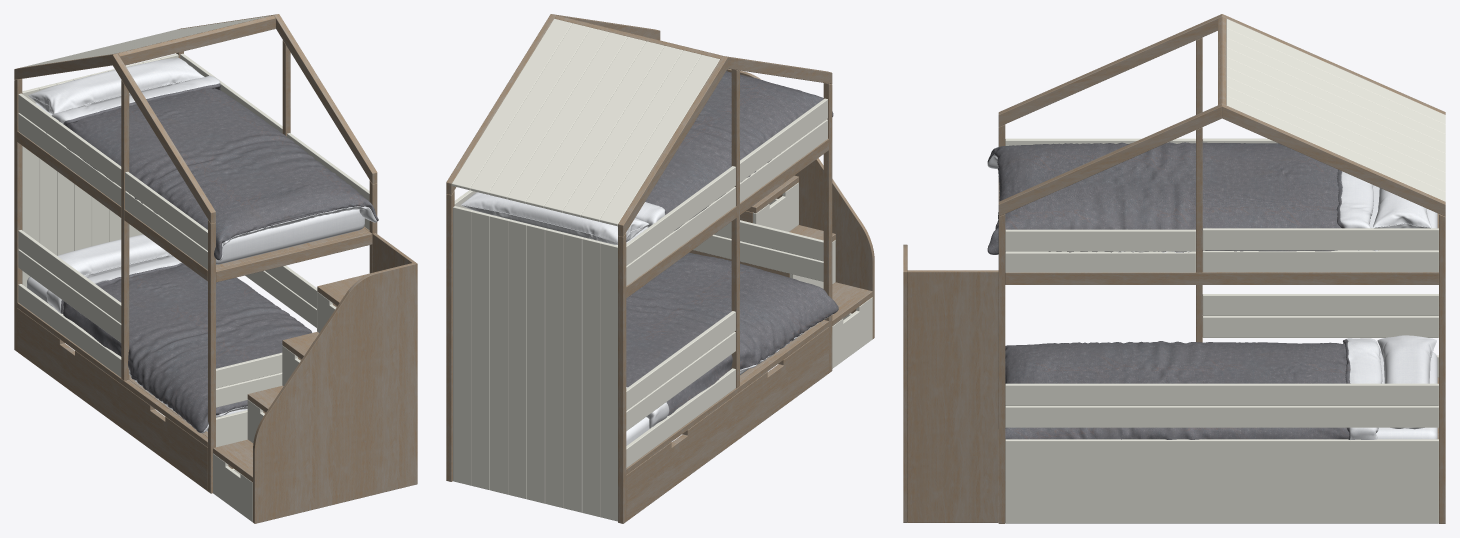
File: bed-1.glb
The picture shows the model from 3 angles, left to right: view 1: azimuth 30°, elevation 25°; view 2: azimuth 150°, elevation 25°; view 3: azimuth 270°, elevation 25°; orthographic projection. The views are drawn at different scales.
Visible parts, largest first — view 1: lat es 1.006_1, matalas.005_73, matalas.006_74, tapa llit inferior_47, fustes lateral_42, estucutra sostre_61, suport llitera_39, matalas.008_76, matalas.001_72, matalas.007_75, suport llitera 1_50, Unio sostre_62 (+29 smaller); view 2: fustes lateral_42, sostre_54, matalas.006_74, matalas.005_73, tapa llit inferior_47, suport llitera_39, estucutra sostre_61, lat es 1.006_1, matalas.008_76, branes 7_52, branes 10_58, branes 8_53 (+15 smaller); view 3: branes 5_48, matalas.005_73, fons.004_0, matalas.006_74, sostre_54, estucutra sostre_61, branes 4_46, branes 3_45, estructura base llit sup_66, branes 14_56, branes 13_55, branes 7_52 (+12 smaller).
Part boxes in pixels (box(x1,y1,x2,y2)): lat es 1.006_1: box(253, 262, 417, 523); matalas.005_73: box(46, 75, 378, 260); matalas.006_74: box(46, 256, 312, 433); tapa llit inferior_47: box(17, 308, 207, 491); fustes lateral_42: box(22, 53, 178, 287); estucutra sostre_61: box(14, 14, 377, 223); suport llitera_39: box(14, 51, 377, 493); matalas.008_76: box(28, 58, 204, 114); matalas.001_72: box(35, 103, 364, 264); matalas.007_75: box(57, 234, 172, 277); suport llitera 1_50: box(121, 80, 129, 380); Unio sostre_62: box(117, 15, 275, 65); fustes lateral_42: box(453, 206, 617, 521); sostre_54: box(451, 18, 719, 226); matalas.006_74: box(626, 252, 838, 428); matalas.005_73: box(635, 71, 833, 246); tapa llit inferior_47: box(626, 327, 828, 521); suport llitera_39: box(446, 83, 832, 523); estucutra sostre_61: box(446, 14, 832, 236); lat es 1.006_1: box(726, 68, 874, 338); matalas.008_76: box(461, 192, 648, 244); branes 7_52: box(626, 311, 735, 410); branes 10_58: box(626, 166, 735, 265); branes 8_53: box(626, 368, 735, 467); branes 5_48: box(1005, 439, 1438, 523); matalas.005_73: box(987, 142, 1378, 254); fons.004_0: box(907, 270, 998, 522); matalas.006_74: box(1005, 338, 1382, 439); sostre_54: box(1226, 19, 1445, 201); estucutra sostre_61: box(998, 14, 1445, 216); branes 4_46: box(1005, 383, 1438, 405); branes 3_45: box(1005, 406, 1438, 427); estructura base llit sup_66: box(1005, 272, 1438, 284); branes 14_56: box(1202, 228, 1438, 250); branes 13_55: box(1202, 250, 1438, 272); branes 7_52: box(1202, 294, 1438, 315).
Bounding box in the file's own units: 1.01 × 2.02 × 2.38.
Materials: 5 (4 with a texture image).
